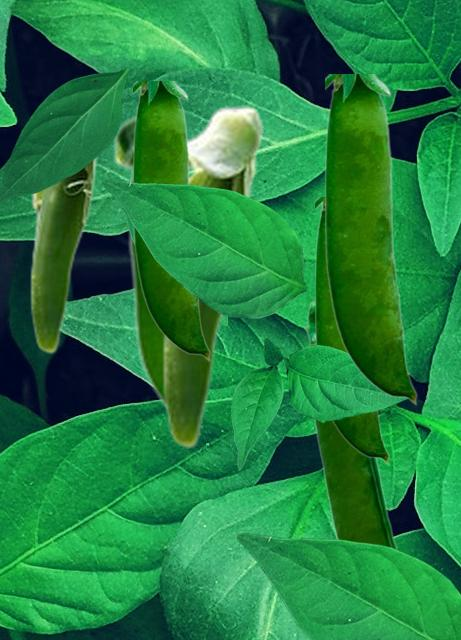pea: (161, 105, 264, 448), (325, 74, 416, 404), (111, 114, 190, 418), (304, 300, 398, 549), (133, 81, 209, 360), (315, 197, 388, 463), (29, 153, 102, 353)
